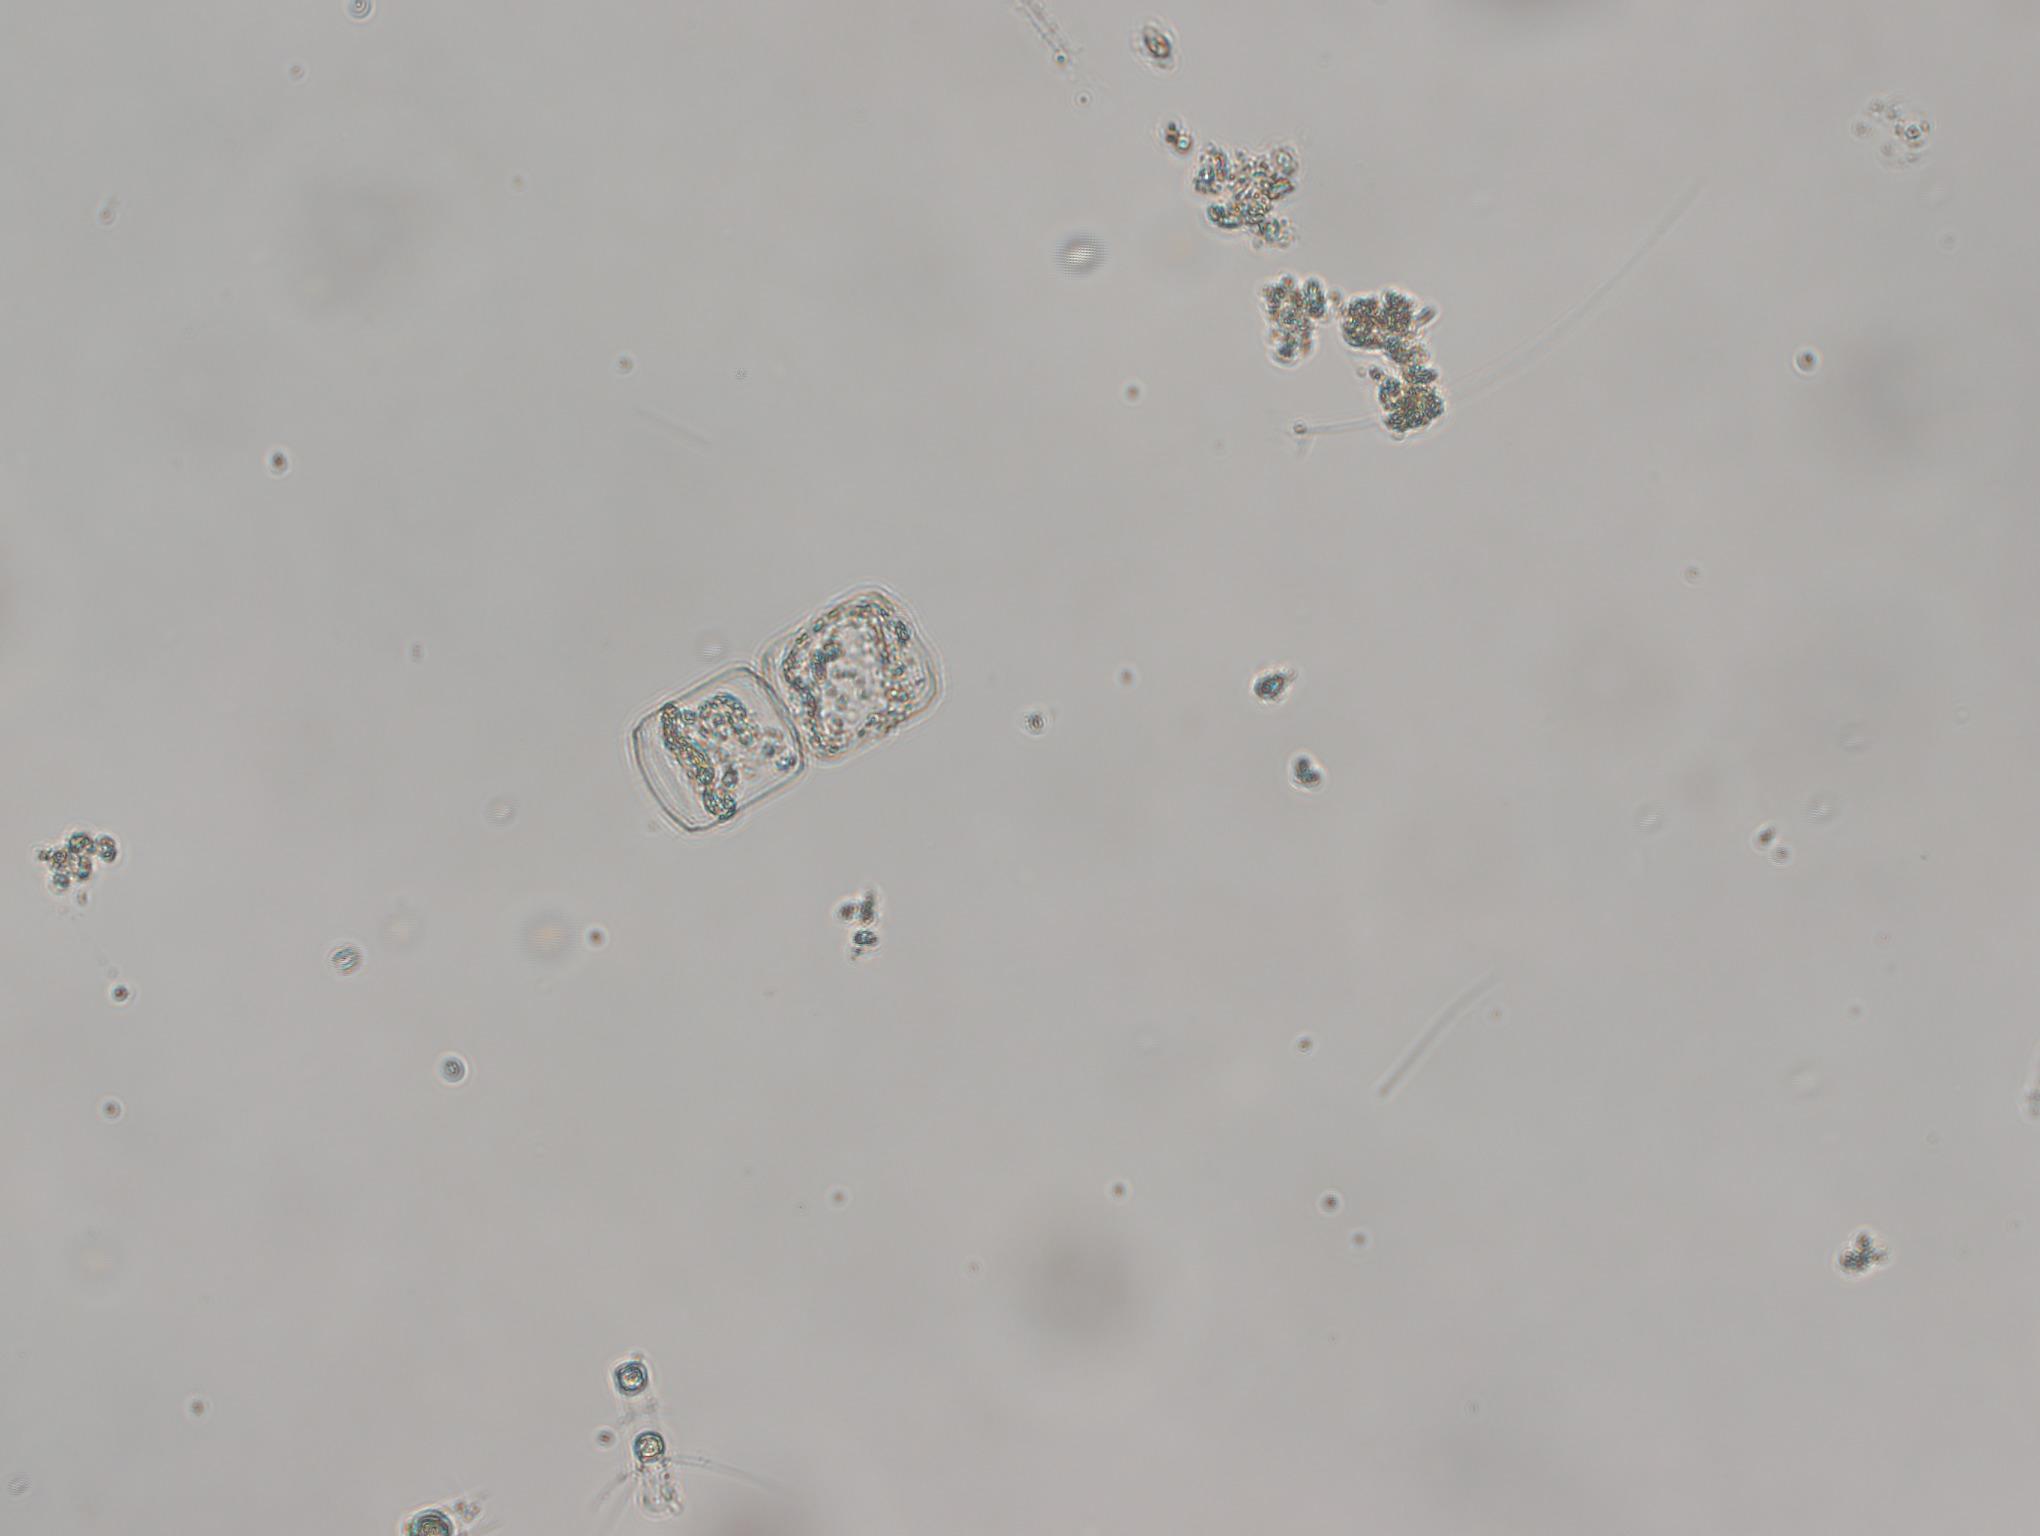chaetoceros: (547, 1346, 793, 1534)
